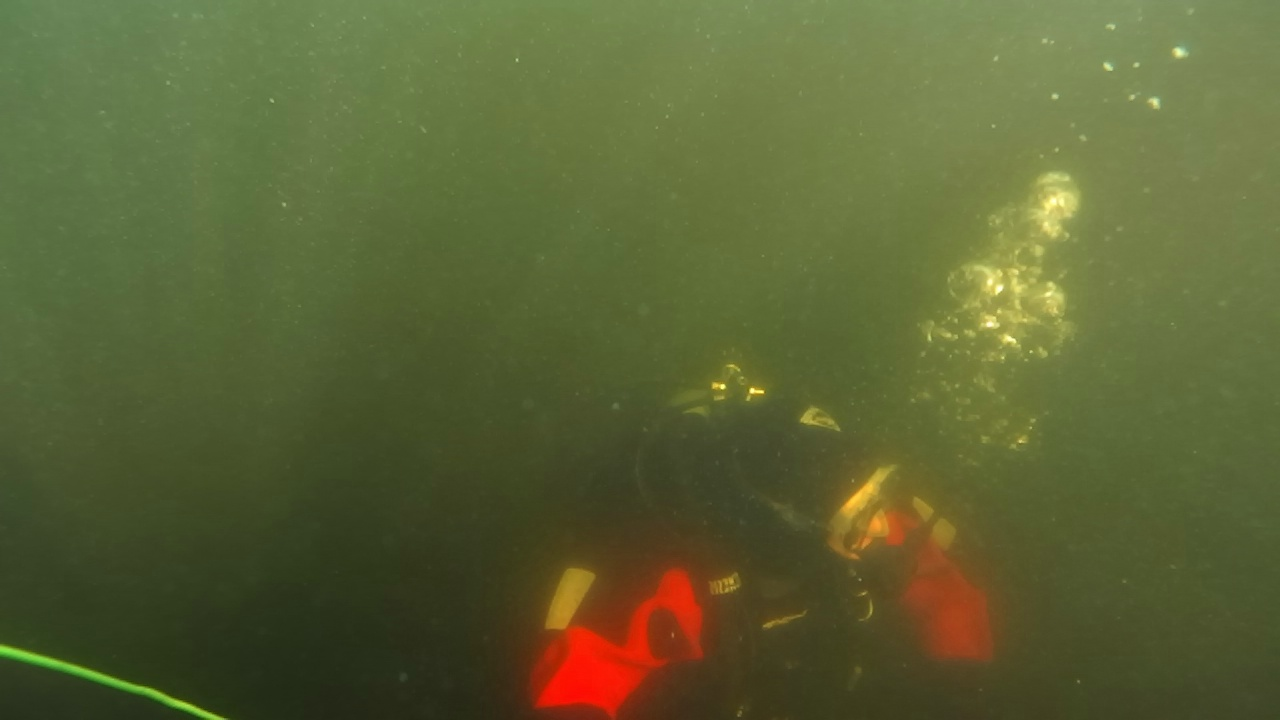Head: (740, 404, 898, 568)
